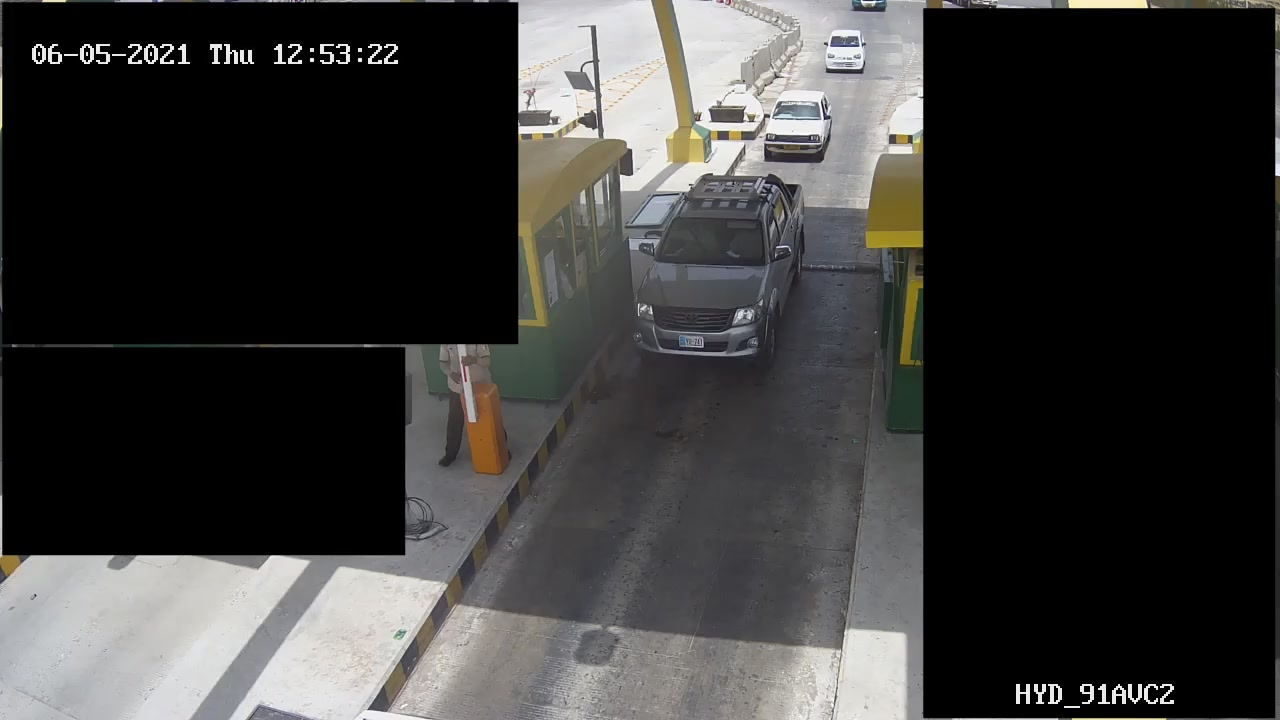F1: (631, 174, 808, 374)
